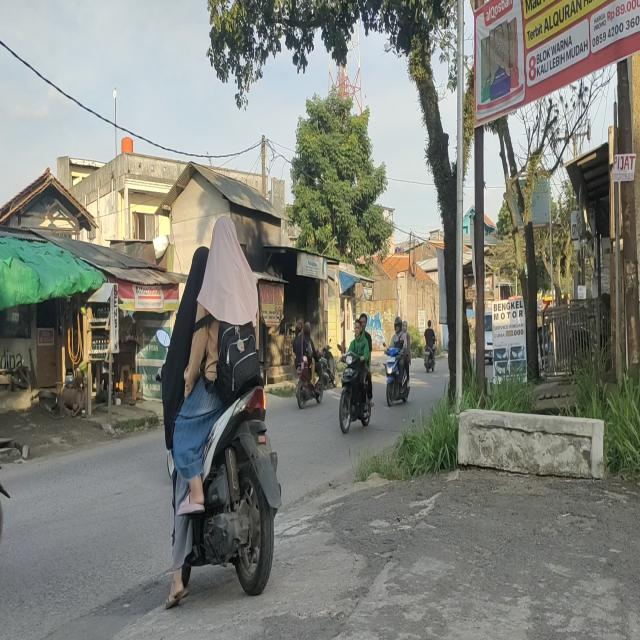helmet: (394, 317, 402, 332)
no-helmet: (209, 210, 239, 275), (183, 242, 211, 298), (359, 312, 368, 334), (354, 319, 362, 337), (295, 322, 303, 337), (304, 321, 311, 338), (402, 320, 408, 334), (427, 320, 432, 328)
